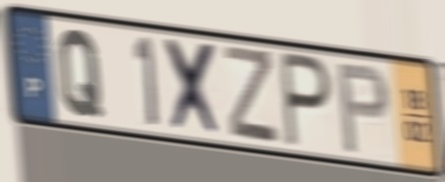1: (132, 33, 162, 131)
P: (278, 48, 335, 153), (334, 61, 392, 157)
Q: (55, 27, 105, 121)
X: (162, 35, 225, 141)
Z: (222, 42, 281, 148)
